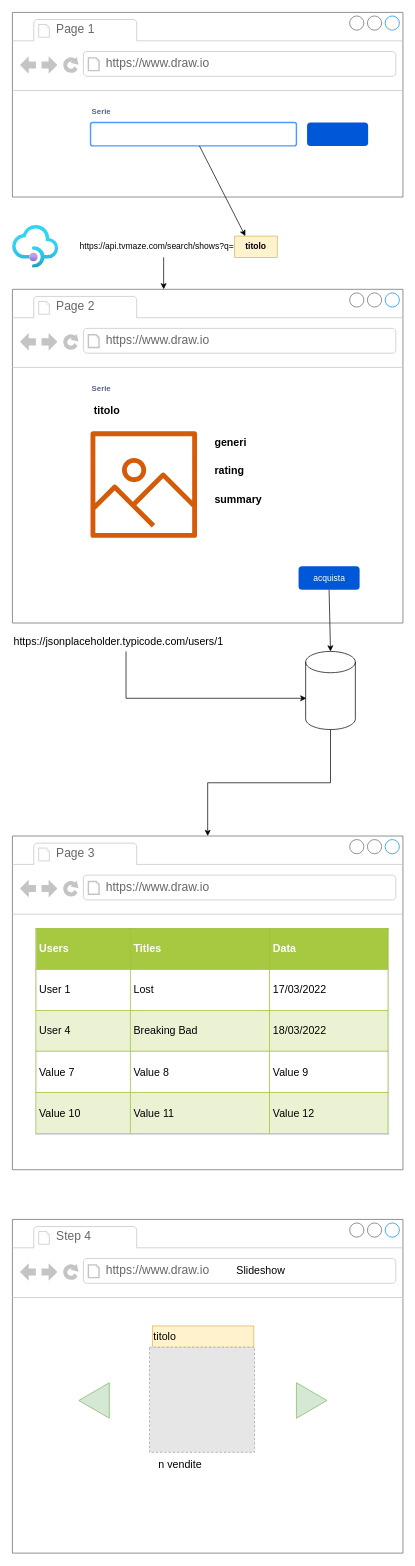
Image size: 415x1566. Some labels were removed from this diagram. Grey dashed boxes stand in for pictures. The centre of each missing label's shape, as x and y in pixels:
Cerca: (x=337, y=134)
Inserisci il titolo della serie: (x=193, y=133)
tab serie_tv: (x=330, y=690)
